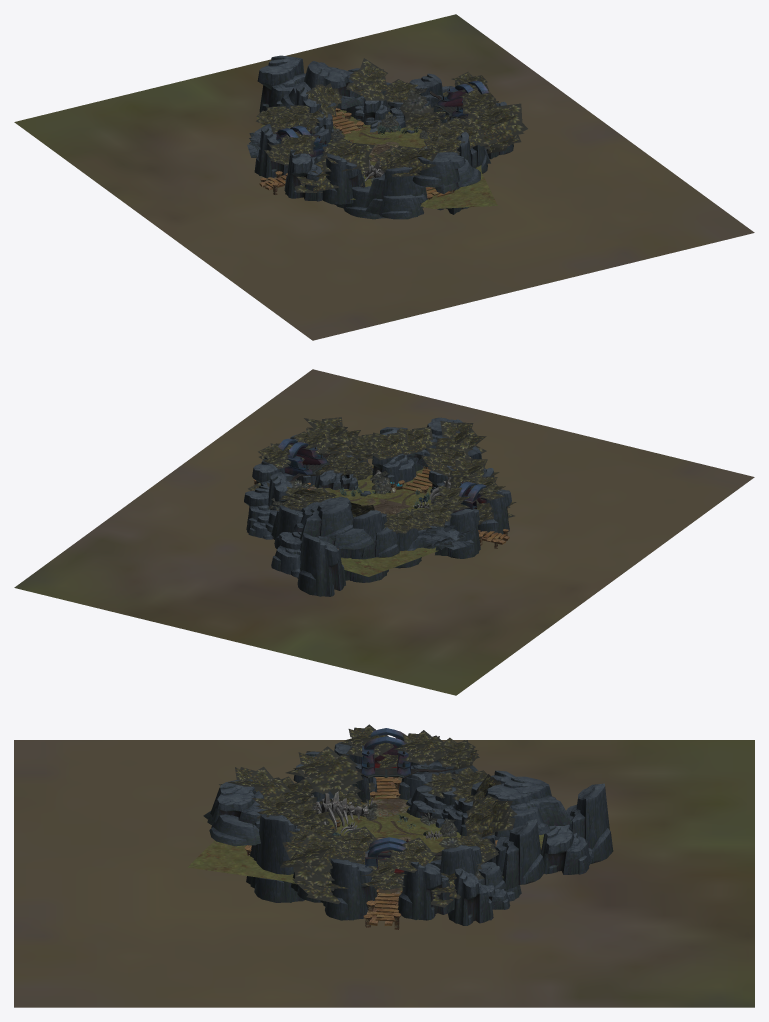
The picture shows the model from 3 angles, top to bottom: view 1: azimuth 30°, elevation 25°; view 2: azimuth 150°, elevation 25°; view 3: azimuth 270°, elevation 25°; orthographic projection. The views are drawn at different scales.
Parts seen in each view (by area): view 1: defaultdetachobj63, defaultdetachobj148, defaultdetachobj61, defaultdetachobj111, defaultdetachobj26, defaultdetachobj22, defaultdetachobj16, defaultdetachobj23, defaultdetachobj90, defaultdetachobj36, defaultdetachobj57, defaultdetachobj88 (+14 smaller); view 2: defaultdetachobj63, defaultdetachobj61, defaultdetachobj148, defaultdetachobj57, defaultdetachobj20, defaultdetachobj19, defaultdetachobj51, defaultdetachobj113, defaultdetachobj45, defaultdetachobj111, defaultdetachobj71, defaultdetachobj83 (+18 smaller); view 3: defaultdetachobj63, defaultdetachobj148, defaultdetachobj14, defaultdetachobj57, defaultdetachobj56, defaultdetachobj61, defaultdetachobj34, defaultdetachobj29, defaultdetachobj88, defaultdetachobj45, defaultdetachobj111, defaultdetachobj35 (+28 smaller).
Part boxes in pixels (box(x1,y1,x2,y2)): defaultdetachobj63: box(14, 14, 754, 340); defaultdetachobj148: box(257, 110, 497, 208); defaultdetachobj61: box(257, 55, 305, 112); defaultdetachobj111: box(464, 103, 527, 146); defaultdetachobj26: box(322, 153, 365, 204); defaultdetachobj22: box(412, 152, 465, 187); defaultdetachobj16: box(284, 149, 322, 201); defaultdetachobj23: box(365, 167, 427, 207); defaultdetachobj90: box(345, 58, 392, 100); defaultdetachobj36: box(365, 194, 426, 219); defaultdetachobj57: box(300, 61, 361, 98); defaultdetachobj88: box(320, 137, 374, 171); defaultdetachobj63: box(14, 369, 754, 695); defaultdetachobj61: box(297, 533, 345, 596); defaultdetachobj148: box(329, 465, 438, 576); defaultdetachobj57: box(294, 496, 353, 541); defaultdetachobj20: box(338, 510, 388, 582); defaultdetachobj19: box(435, 509, 480, 558); defaultdetachobj51: box(278, 438, 331, 481); defaultdetachobj113: box(434, 421, 486, 459); defaultdetachobj45: box(271, 532, 302, 577); defaultdetachobj111: box(304, 417, 360, 455); defaultdetachobj71: box(367, 432, 412, 460); defaultdetachobj83: box(423, 519, 475, 549); defaultdetachobj63: box(14, 740, 754, 1007); defaultdetachobj148: box(187, 815, 543, 884); defaultdetachobj14: box(246, 814, 304, 902); defaultdetachobj57: box(485, 776, 571, 836); defaultdetachobj56: box(495, 819, 544, 890); defaultdetachobj61: box(566, 783, 613, 863); defaultdetachobj34: box(320, 858, 377, 920); defaultdetachobj29: box(398, 862, 454, 920); defaultdetachobj88: box(285, 746, 362, 795); defaultdetachobj45: box(541, 824, 594, 874); defaultdetachobj111: box(280, 831, 354, 881); defaultdetachobj35: box(356, 728, 453, 778).
Size of the model in its own units: 131 by 23.52 by 154.
